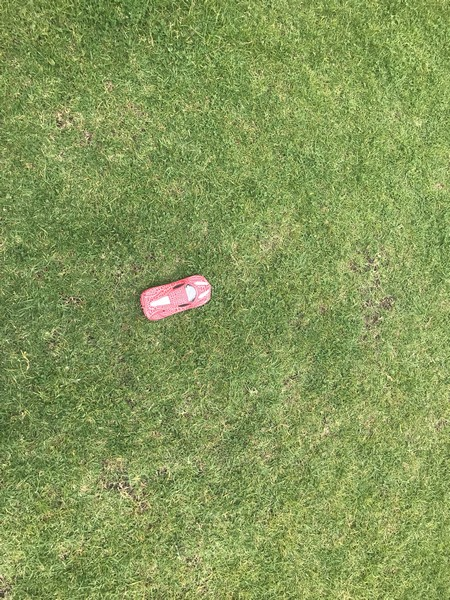RC: (138, 274, 213, 321)
